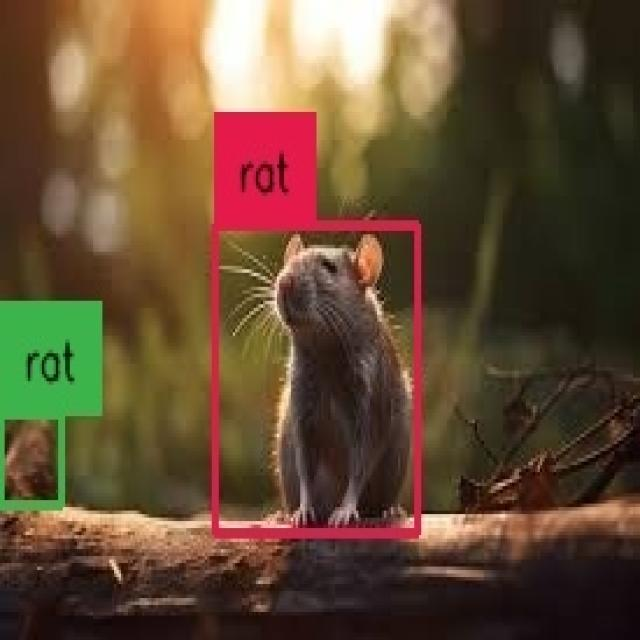rat: (214, 226, 417, 534), (0, 414, 61, 506)
